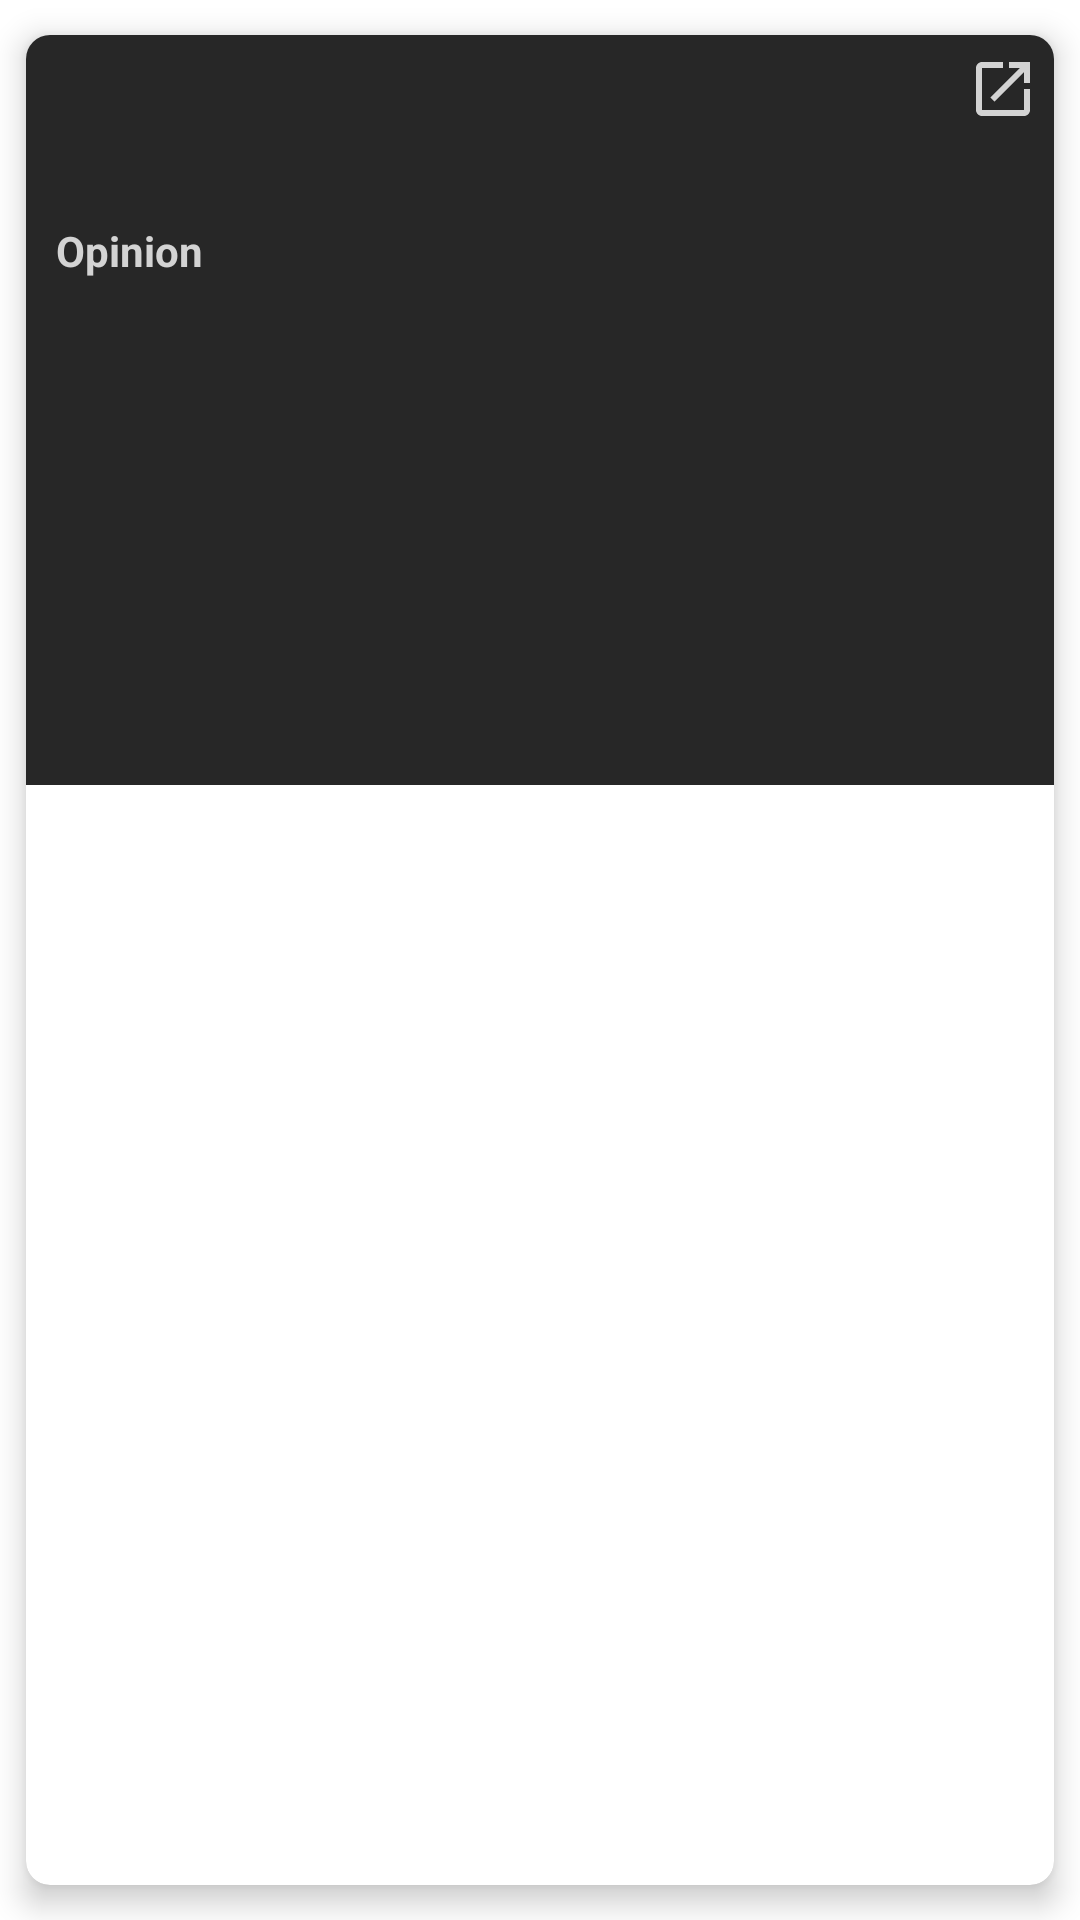

Screen size 1080x1920. Icon name, then its center in pixels as point (x, y):
open in: point (1003, 89)
